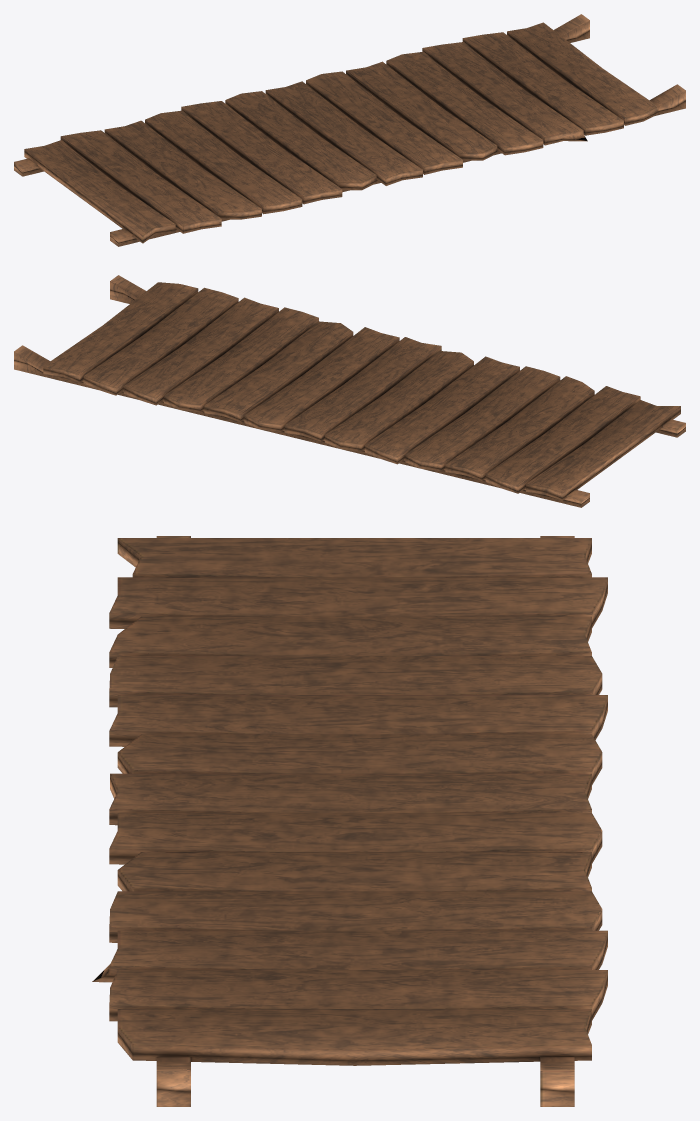
The model's file is pallet.gltf.
3 views of the same model, one above another, from view 1: azimuth 30°, elevation 25°; view 2: azimuth 150°, elevation 25°; view 3: azimuth 270°, elevation 25° (orthographic). The views are drawn at different scales.
Parts seen in each view (by area): view 1: Cube; view 2: Cube; view 3: Cube.
Part boxes in pixels (x1=…): Cube: x1=14, y1=14, x2=685, y2=246; Cube: x1=14, y1=275, x2=685, y2=507; Cube: x1=92, y1=536, x2=607, y2=1106.
Bounding box in the file's own units: 31.05 × 0.939 × 12.23.
1 material, 1 textured.
